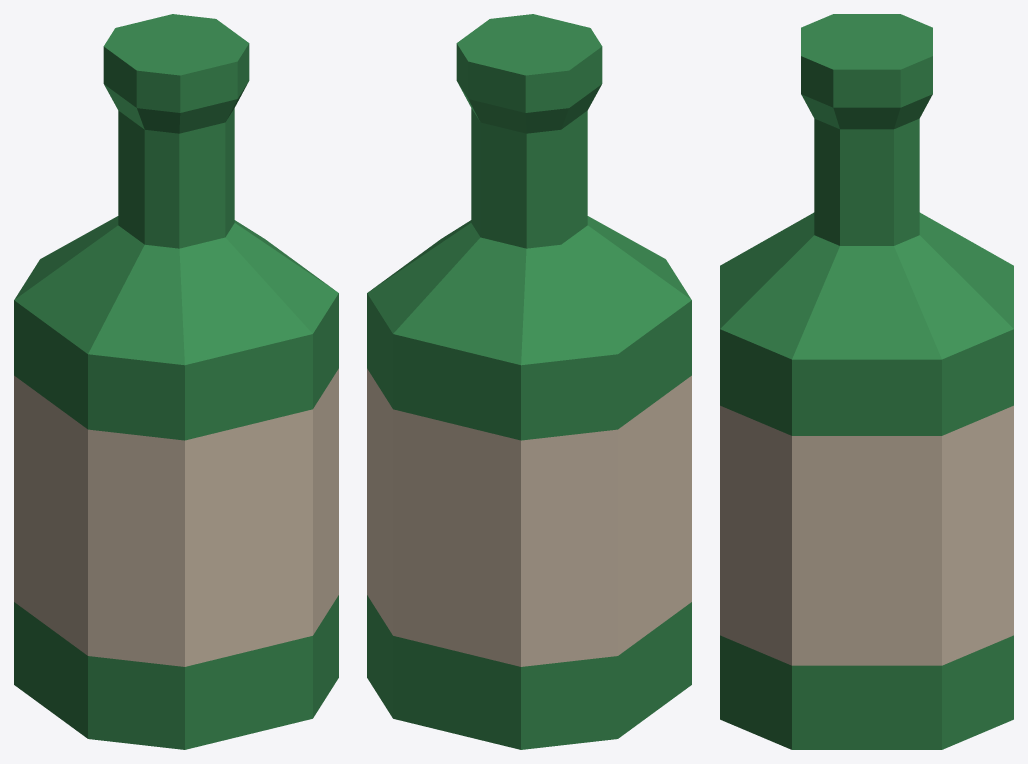
The model's file is d_kenney_fiole.glb.
3 views of the same model, side by side, from view 1: azimuth 30°, elevation 25°; view 2: azimuth 150°, elevation 25°; view 3: azimuth 270°, elevation 25° (orthographic).
Parts seen in each view (by area): view 1: d_kenney_fiole; view 2: d_kenney_fiole; view 3: d_kenney_fiole.
Boxes of the visible parts, left/top/right/bottom form: d_kenney_fiole: left=14, top=14, right=338, bottom=749; d_kenney_fiole: left=367, top=14, right=691, bottom=749; d_kenney_fiole: left=720, top=14, right=1013, bottom=749.
Bounding box in the file's own units: 0.1739 × 0.4217 × 0.1739.
Materials: 1 (1 with a texture image).
